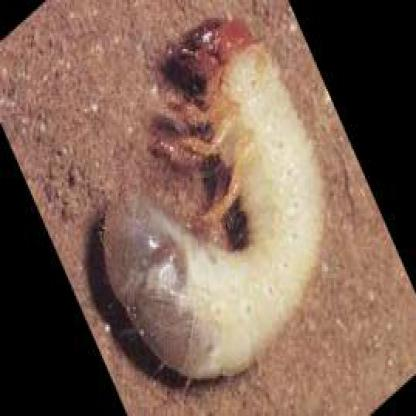root grubs: (104, 21, 323, 380)
